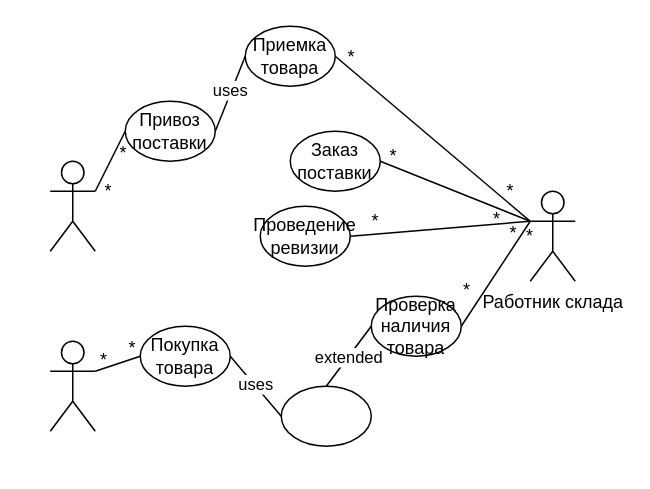
Image size: 650x489. Some labels were removed from this diagram. The centre of each missing label's shape, as x and y in pixels:
"Выдача заказа" goes at (325,415).
"Заказчик" goes at (72,385).
"Поставщик" goes at (72,205).
